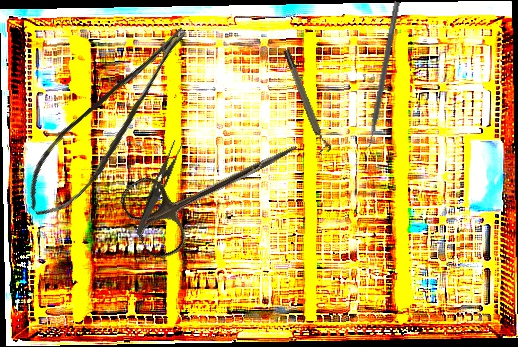Dressing Forceps: (134, 132, 188, 241)
Fixation Ring: (281, 46, 333, 156)
Iris Scissors: (115, 107, 314, 265)
Micro Scissor: (7, 21, 218, 228)
Spatula Surgical: (360, 0, 401, 153)
